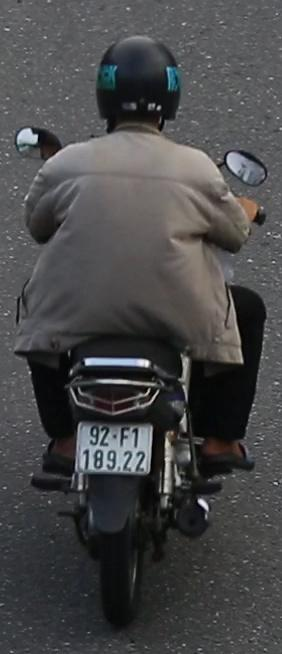LP: (70, 409, 158, 479)
helmet: (93, 27, 177, 145)
